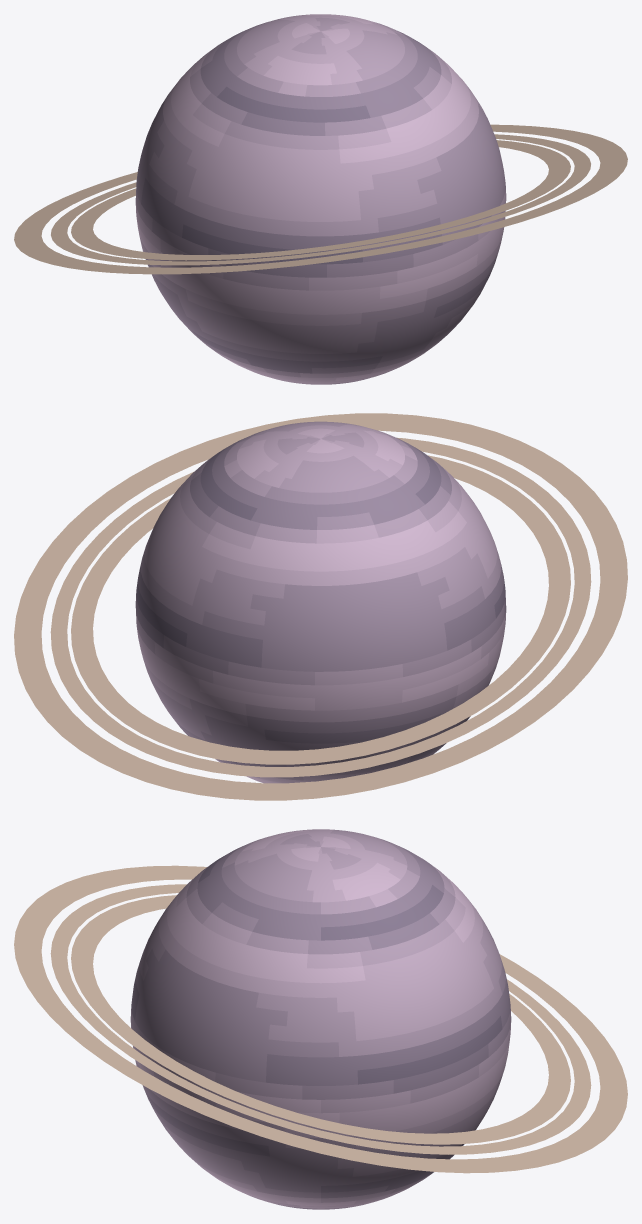
File: planet.glb
The picture shows the model from 3 angles, top to bottom: view 1: azimuth 30°, elevation 25°; view 2: azimuth 150°, elevation 25°; view 3: azimuth 270°, elevation 25°; orthographic projection. The views are drawn at different scales.
Parts seen in each view (by area): view 1: planet; view 2: planet; view 3: planet.
Part boxes in pixels (<box>): planet: <box>14,14,627,384</box>; planet: <box>14,413,627,800</box>; planet: <box>14,829,627,1209</box>.
Bounding box in the file's own units: 3.34 × 2 × 3.23.
